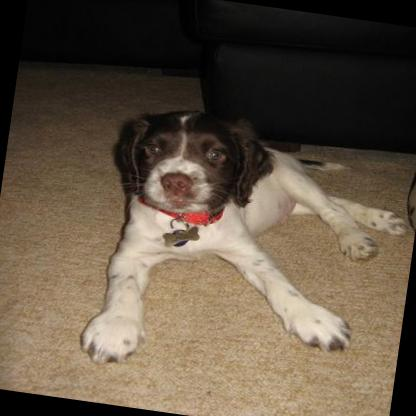English_springer: (70, 95, 416, 404)
